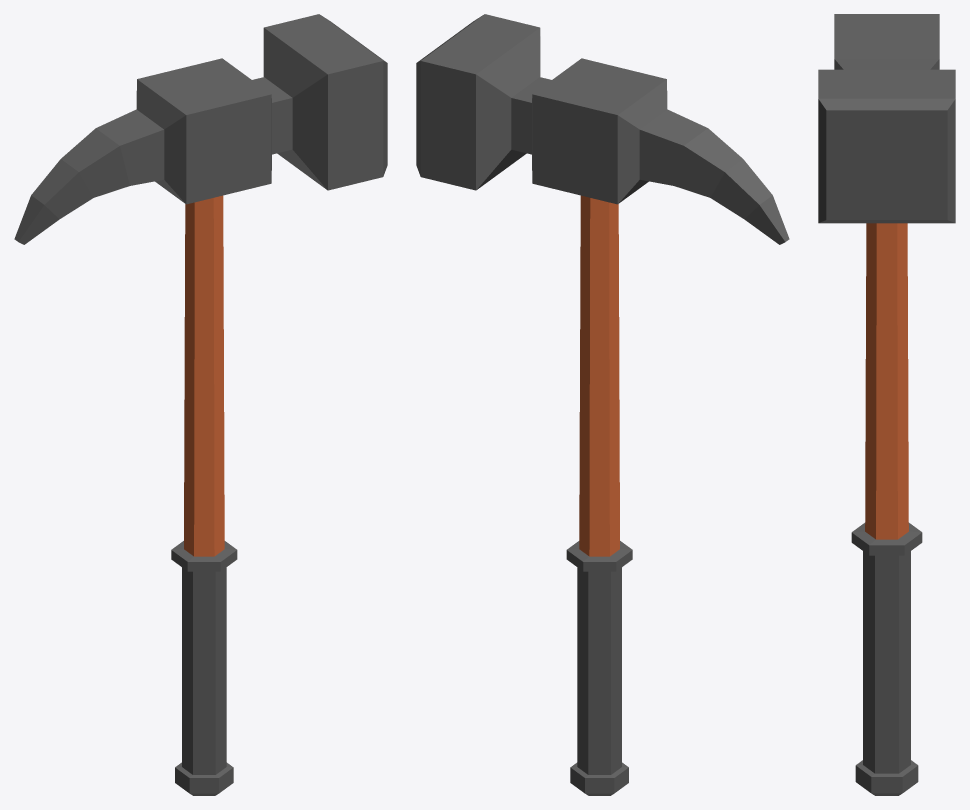
File: hammer_2.fbx
3 views of the same model, side by side, from view 1: azimuth 30°, elevation 25°; view 2: azimuth 150°, elevation 25°; view 3: azimuth 270°, elevation 25° (orthographic). The views are drawn at different scales.
Parts seen in each view (by area): view 1: Hammer; view 2: Hammer; view 3: Hammer.
Boxes of the visible parts, x1,y1,x2,y2 form: Hammer: (14, 14, 387, 795); Hammer: (416, 14, 789, 795); Hammer: (818, 14, 955, 795).
Size of the model in its own units: 54.28 by 108 by 17.57.
